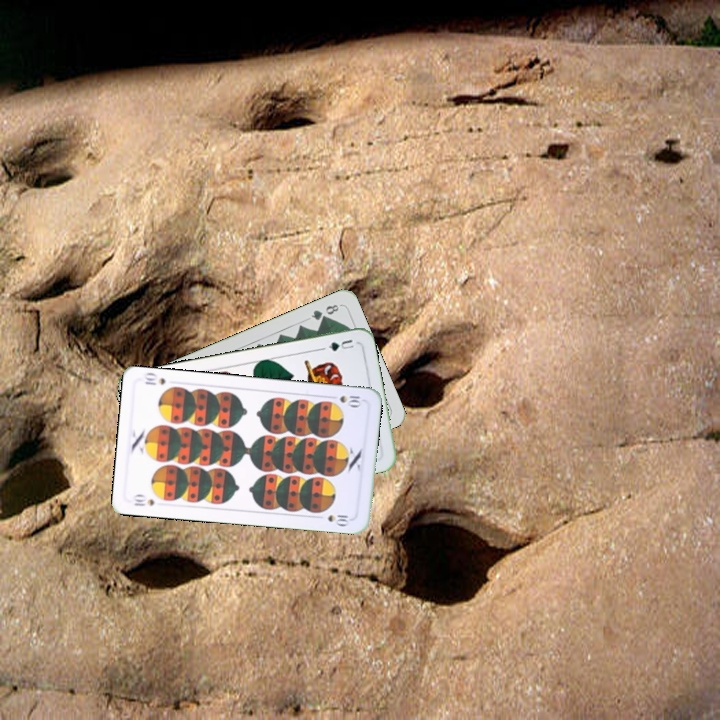G8: (307, 300, 341, 323)
GU: (324, 335, 358, 354)
S10: (325, 392, 363, 409), (129, 491, 157, 509)
